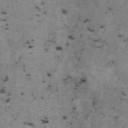oxide scale of temperature system: (0, 2, 126, 126), (0, 11, 10, 30)
